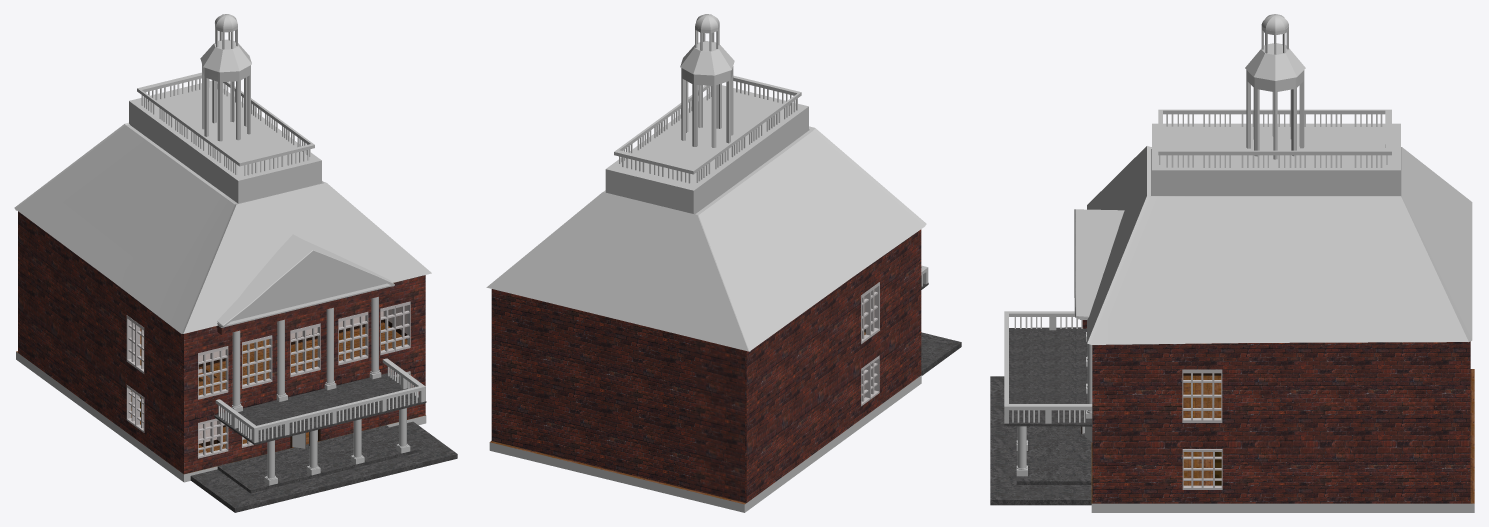
Rendered from Courthouse.fbx.
3 renders of one model, left to right at view 1: azimuth 30°, elevation 25°; view 2: azimuth 150°, elevation 25°; view 3: azimuth 270°, elevation 25°, orthographic. The views are drawn at different scales.
Parts seen in each view (by area): view 1: roof, courthouse, top, stepout, stepout1, porch, topfence, frontroof, porchfence, rooftoppiece, floor, topp2 (+17 smaller); view 2: backwall, roof, courthouse, roofp, top, foundation, topfence, topp2, topp, stepout, window6, window5; view 3: courthouse, roof, top, roofp, porch, foundation, topfence, stepout, stepout1, rooftoppiece, topp2, porchfence (+4 smaller).
Part boxes in pixels (box(x1,y1,x2,y2)): roof: box(15, 124, 431, 333); courthouse: box(18, 211, 425, 473); top: box(129, 80, 321, 203); stepout: box(190, 421, 457, 512); stepout1: box(217, 425, 419, 493); porch: box(214, 373, 426, 444); topfence: box(137, 72, 314, 175); frontroof: box(231, 253, 386, 321); porchfence: box(215, 358, 425, 442); rooftoppiece: box(217, 234, 394, 327); floor: box(140, 322, 407, 395); topp2: box(202, 64, 250, 141); backwall: box(492, 289, 744, 502); roof: box(603, 126, 926, 351); courthouse: box(491, 229, 921, 502); roofp: box(486, 192, 750, 351); top: box(605, 85, 808, 214); foundation: box(489, 375, 921, 512); topfence: box(614, 75, 801, 183); topp2: box(681, 66, 733, 147); topp: box(680, 41, 734, 75); stepout: box(921, 332, 961, 375); window6: box(861, 282, 879, 344); window5: box(861, 355, 879, 406); courthouse: box(1092, 342, 1470, 503); roof: box(1087, 146, 1468, 344); top: box(1152, 123, 1400, 195); roofp: box(1401, 147, 1472, 342); porch: box(1004, 327, 1091, 426); foundation: box(1091, 369, 1474, 512); topfence: box(1158, 109, 1391, 167); stepout: box(990, 376, 1091, 505); stepout1: box(1016, 426, 1091, 484); rooftoppiece: box(1074, 209, 1124, 319); topp2: box(1246, 70, 1304, 159); porchfence: box(1004, 311, 1092, 423).
Bounding box in the file's own units: 63.55 × 92.26 × 93.86.
